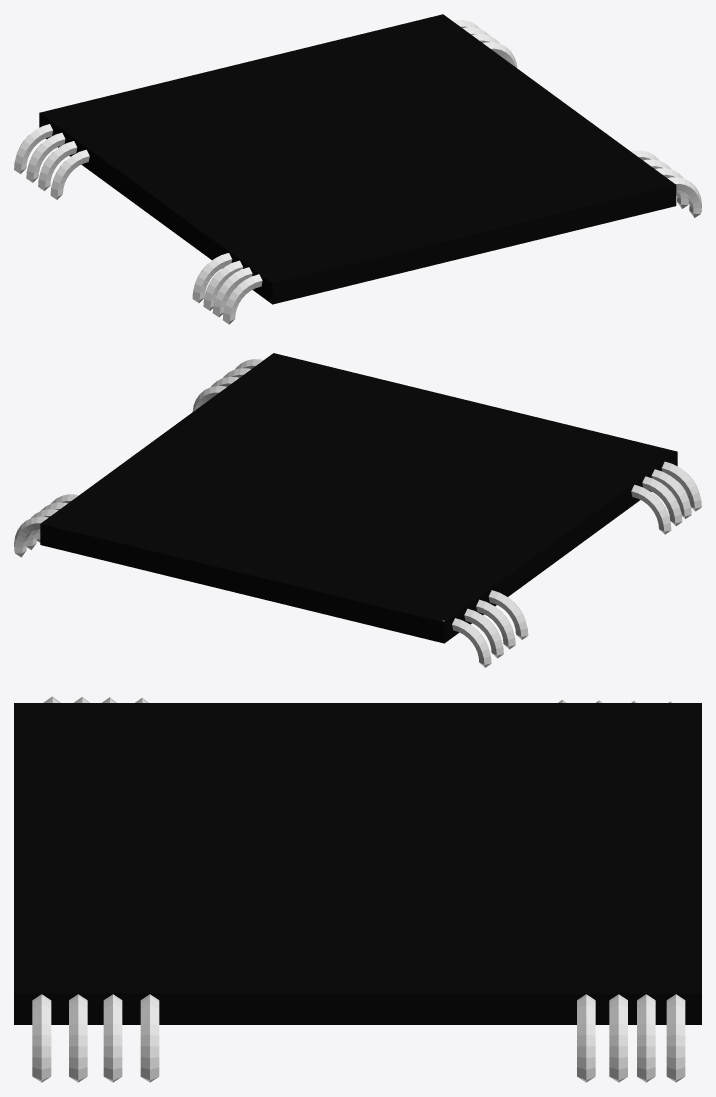
File: Chip.fbx
3 views of the same model, one above another, from view 1: azimuth 30°, elevation 25°; view 2: azimuth 150°, elevation 25°; view 3: azimuth 270°, elevation 25° (orthographic). The views are drawn at different scales.
Parts seen in each view (by area): view 1: Cube, Torus.011, Torus.008, Torus.012, Torus.014, Torus.015, Torus.013, Torus.010, Torus.009, Torus; view 2: Cube, Torus.008, Torus.015, Torus.009, Torus.012, Torus.014, Torus.013, Torus.011, Torus.010, Torus.004; view 3: Cube, Torus.003, Torus.004, Torus.002, Torus, Torus.001, Torus.005, Torus.006, Torus.007.
Boxes of the visible parts, x1=… form: Cube: x1=39, y1=14, x2=676, y2=304; Torus.011: x1=222, y1=274, x2=262, y2=324; Torus.008: x1=192, y1=253, x2=232, y2=302; Torus.012: x1=50, y1=149, x2=89, y2=199; Torus.014: x1=26, y1=132, x2=65, y2=182; Torus.015: x1=14, y1=124, x2=52, y2=173; Torus.013: x1=38, y1=141, x2=77, y2=190; Torus.010: x1=212, y1=267, x2=252, y2=317; Torus.009: x1=203, y1=260, x2=243, y2=310; Torus: x1=667, y1=177, x2=701, y2=217; Cube: x1=40, y1=353, x2=677, y2=643; Torus.008: x1=631, y1=484, x2=671, y2=534; Torus.015: x1=442, y1=618, x2=491, y2=667; Torus.009: x1=642, y1=476, x2=682, y2=525; Torus.012: x1=488, y1=590, x2=528, y2=639; Torus.014: x1=464, y1=608, x2=503, y2=658; Torus.013: x1=476, y1=599, x2=515, y2=649; Torus.011: x1=661, y1=461, x2=701, y2=511; Torus.010: x1=651, y1=469, x2=691, y2=518; Torus.004: x1=14, y1=516, x2=47, y2=557; Cube: x1=14, y1=703, x2=701, y2=1024; Torus.003: x1=140, y1=994, x2=159, y2=1082; Torus.004: x1=666, y1=994, x2=685, y2=1082; Torus.002: x1=103, y1=994, x2=122, y2=1082; Torus: x1=32, y1=994, x2=51, y2=1082; Torus.001: x1=69, y1=994, x2=87, y2=1082; Torus.005: x1=637, y1=994, x2=655, y2=1082; Torus.006: x1=609, y1=994, x2=627, y2=1082; Torus.007: x1=577, y1=994, x2=595, y2=1082.
Size of the model in its own units: 236 by 22.2 by 200.
